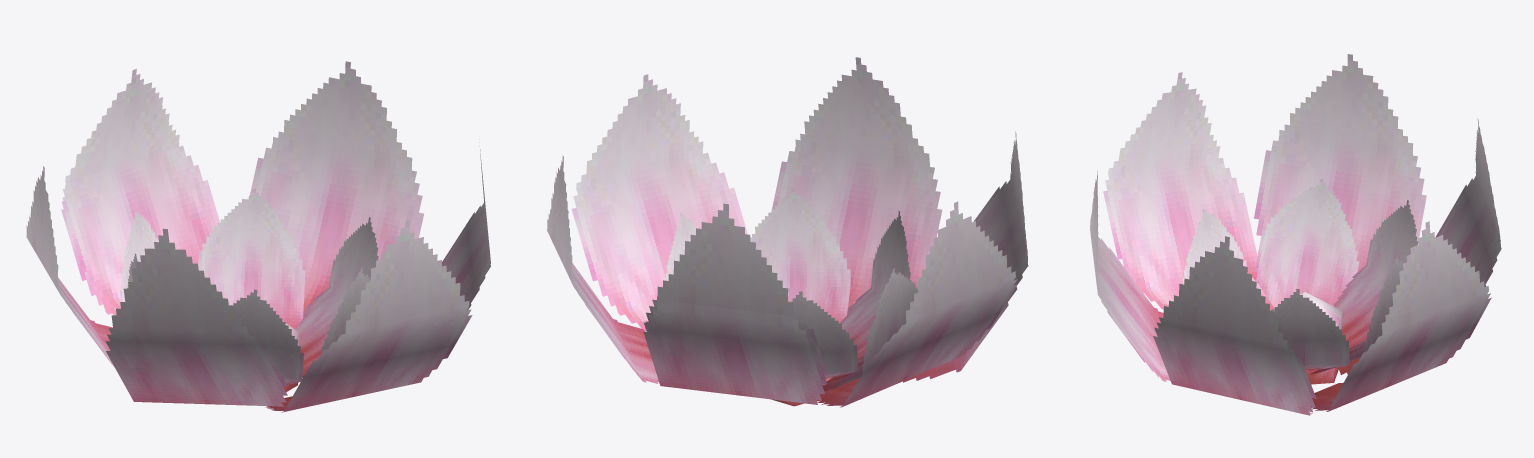
The model's file is huaban01.FBX.
3 views of the same model, side by side, from view 1: azimuth 30°, elevation 25°; view 2: azimuth 150°, elevation 25°; view 3: azimuth 270°, elevation 25° (orthographic). The views are drawn at different scales.
Visible parts, largest first — view 1: huaban01; view 2: huaban01; view 3: huaban01.
Boxes of the visible parts, bbox=[...] form: huaban01: bbox=[26, 61, 490, 412]; huaban01: bbox=[547, 57, 1028, 407]; huaban01: bbox=[1090, 54, 1501, 415].
Bounding box in the file's own units: 31.45 × 19.88 × 27.81.
